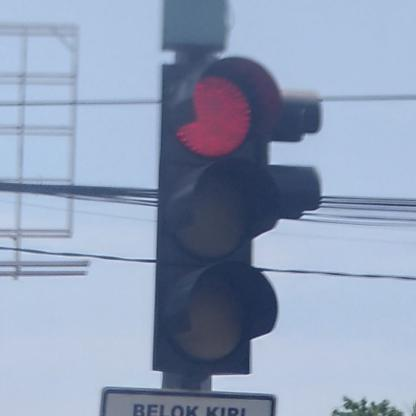red: (144, 57, 280, 371)
